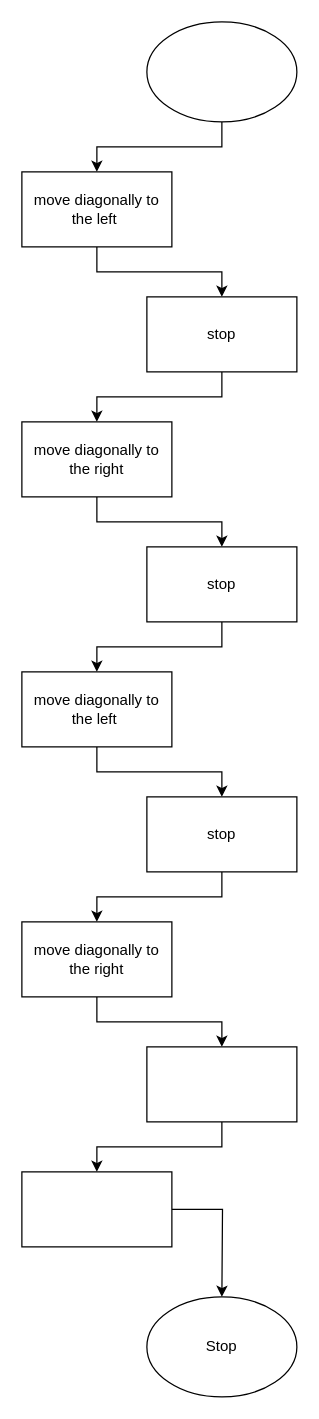
The diagram is 319 pixels wide and 1419 high, and some of its shapes have lost their labels. Here are the shapes that lost their labels. From the top down, the centre of each, then its label:
At (221,71): "Start".
At (221,1084): "jump over ramp".
At (96,1209): "move back".
